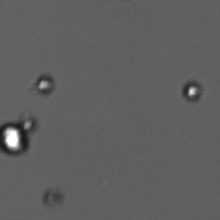Living Cell: (1, 120, 31, 155), (33, 74, 58, 96), (183, 81, 203, 103)
